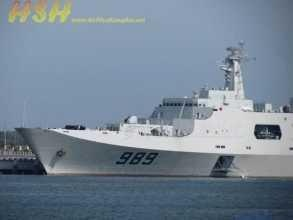warship: (16, 46, 293, 177)
